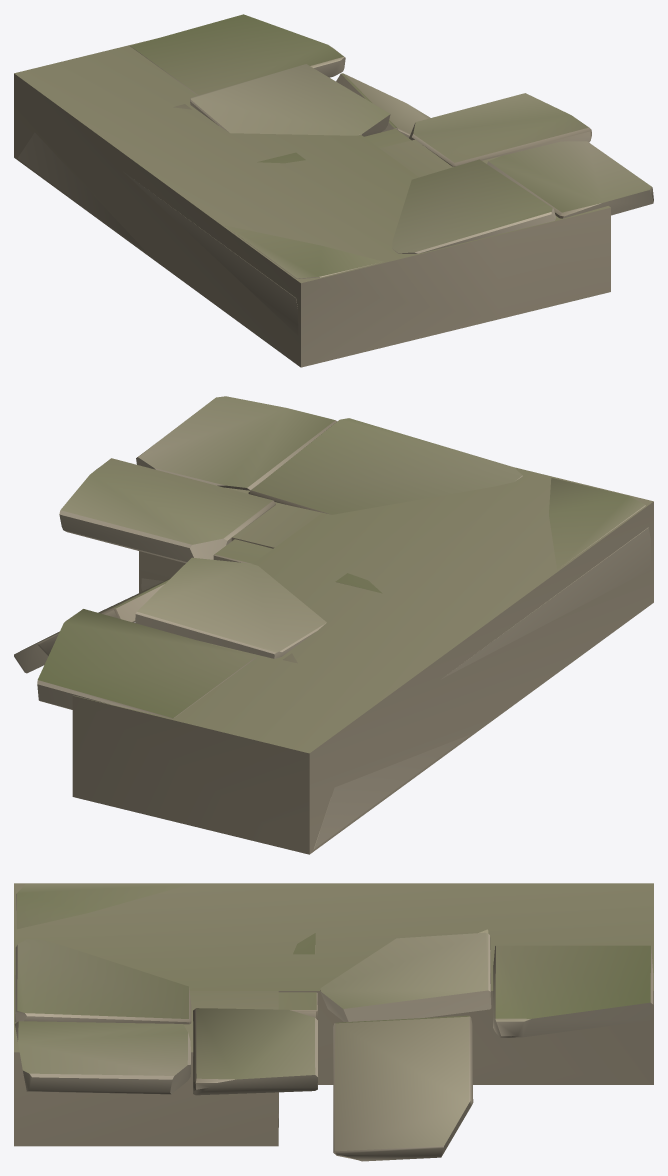
File: sanctuary_deck_broken.glb
The picture shows the model from 3 angles, top to bottom: view 1: azimuth 30°, elevation 25°; view 2: azimuth 150°, elevation 25°; view 3: azimuth 270°, elevation 25°; orthographic projection. The views are drawn at different scales.
Parts seen in each view (by area): view 1: sanctuary_deck_broken_far, sanctuary_deck_broken; view 2: sanctuary_deck_broken_far, sanctuary_deck_broken; view 3: sanctuary_deck_broken, sanctuary_deck_broken_far.
Part boxes in pixels (left/top/right/bottom): sanctuary_deck_broken_far: left=14, top=39, right=610, bottom=367; sanctuary_deck_broken: left=17, top=14, right=653, bottom=335; sanctuary_deck_broken_far: left=72, top=467, right=653, bottom=854; sanctuary_deck_broken: left=14, top=396, right=650, bottom=848; sanctuary_deck_broken: left=15, top=884, right=653, bottom=1161; sanctuary_deck_broken_far: left=14, top=883, right=653, bottom=1146.
Bounding box in the file's own units: 13.88 × 3.53 × 18.5.
